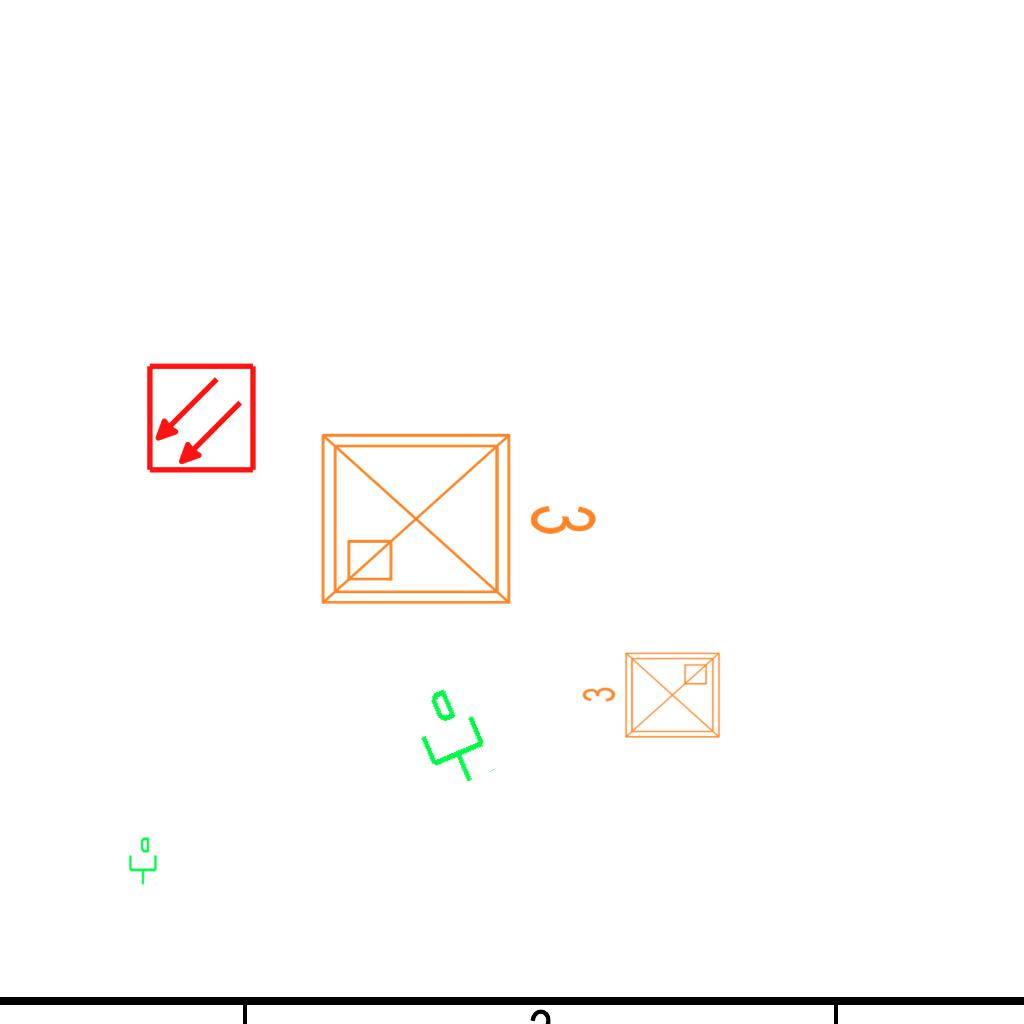Datenanschluss_einfach: (398, 678, 501, 798), (125, 836, 159, 886)
Einbaudownlights_LED_Konferenzraeume: (307, 411, 607, 619), (577, 645, 727, 749)
RMO_Rauchmelder_optischer: (145, 362, 258, 475)
